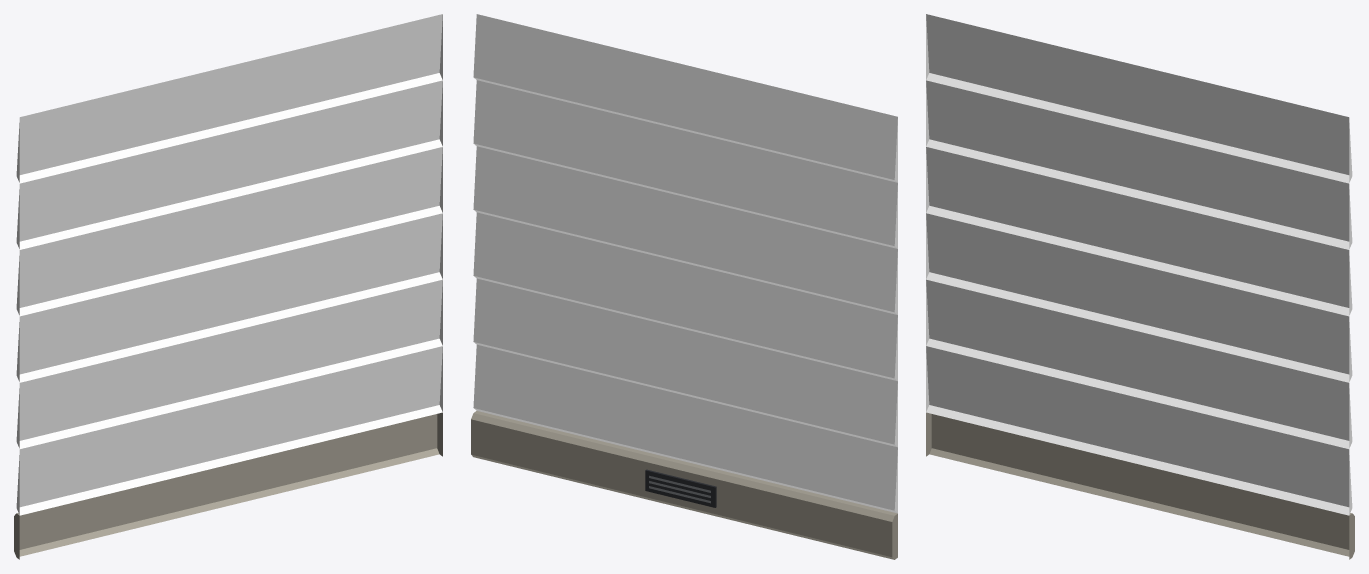
File: house_wall.glb
3 renders of one model, left to right at view 1: azimuth 30°, elevation 25°; view 2: azimuth 150°, elevation 25°; view 3: azimuth 330°, elevation 25°, orthographic.
Parts seen in each view (by area): view 1: house_wall__mesh; view 2: house_wall__mesh; view 3: house_wall__mesh.
Boxes of the visible parts, left/top/right/bottom form: house_wall__mesh: left=14, top=14, right=442, bottom=559; house_wall__mesh: left=471, top=14, right=897, bottom=559; house_wall__mesh: left=926, top=14, right=1354, bottom=559.
Size of what is drawn, in the model's own units: 3 by 3 by 0.09.
1 material, 1 textured.
